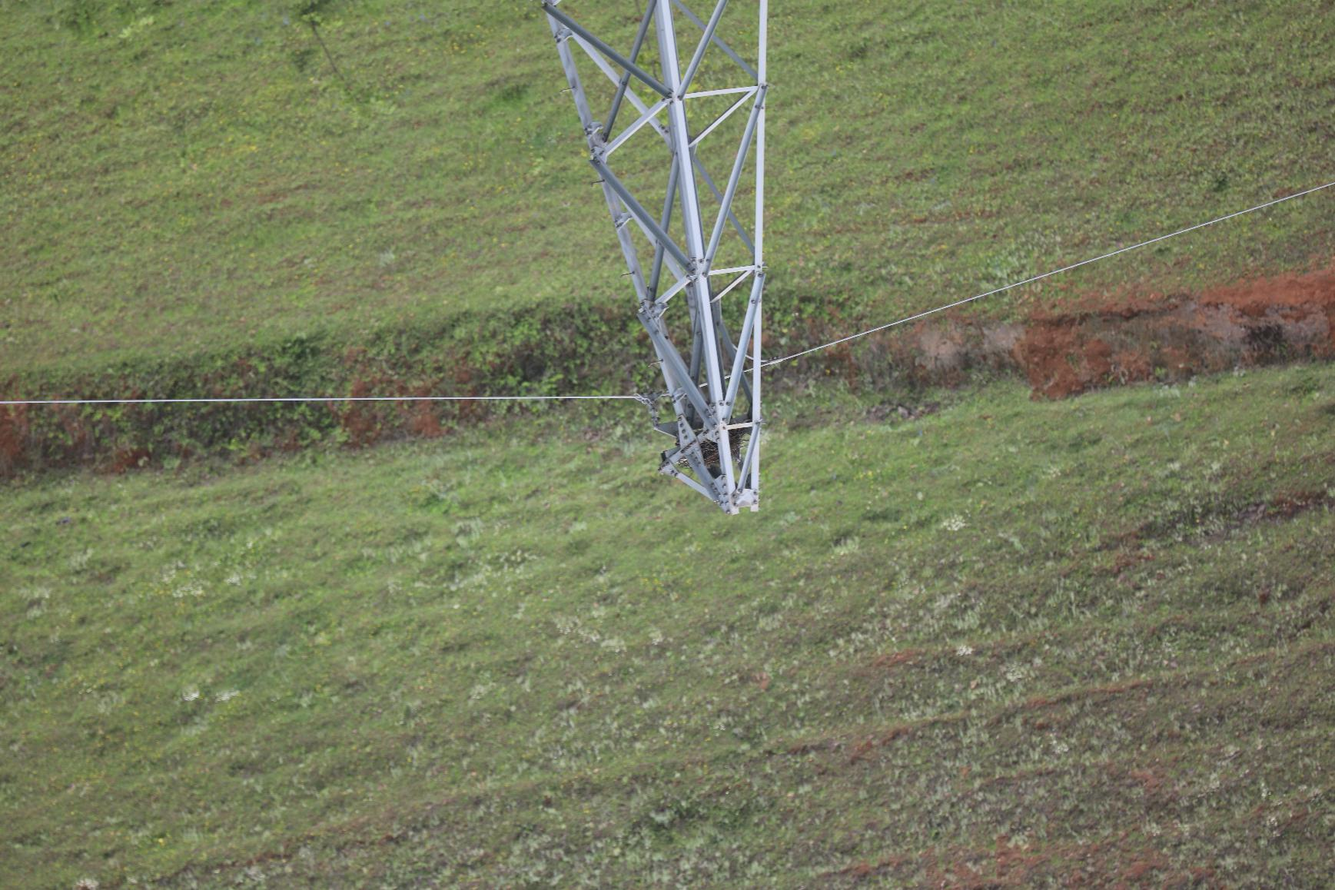nest: (696, 427, 750, 471)
